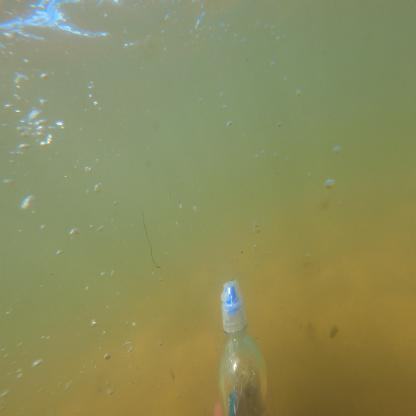Rác: (214, 276, 273, 414)
